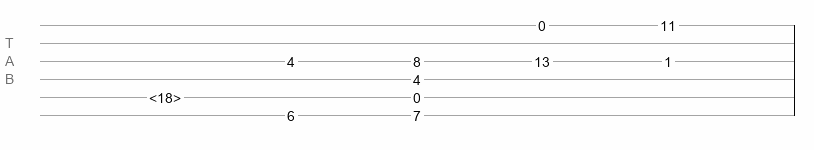0: (413, 90, 421, 100), (538, 18, 546, 28)
1: (664, 54, 672, 64)
11: (660, 18, 676, 28)
13: (534, 54, 550, 64)
4: (287, 54, 295, 64), (413, 72, 421, 82)
6: (287, 108, 295, 118)
7: (413, 108, 421, 118)
8: (413, 54, 421, 64)
harmonic: (149, 90, 181, 100)
